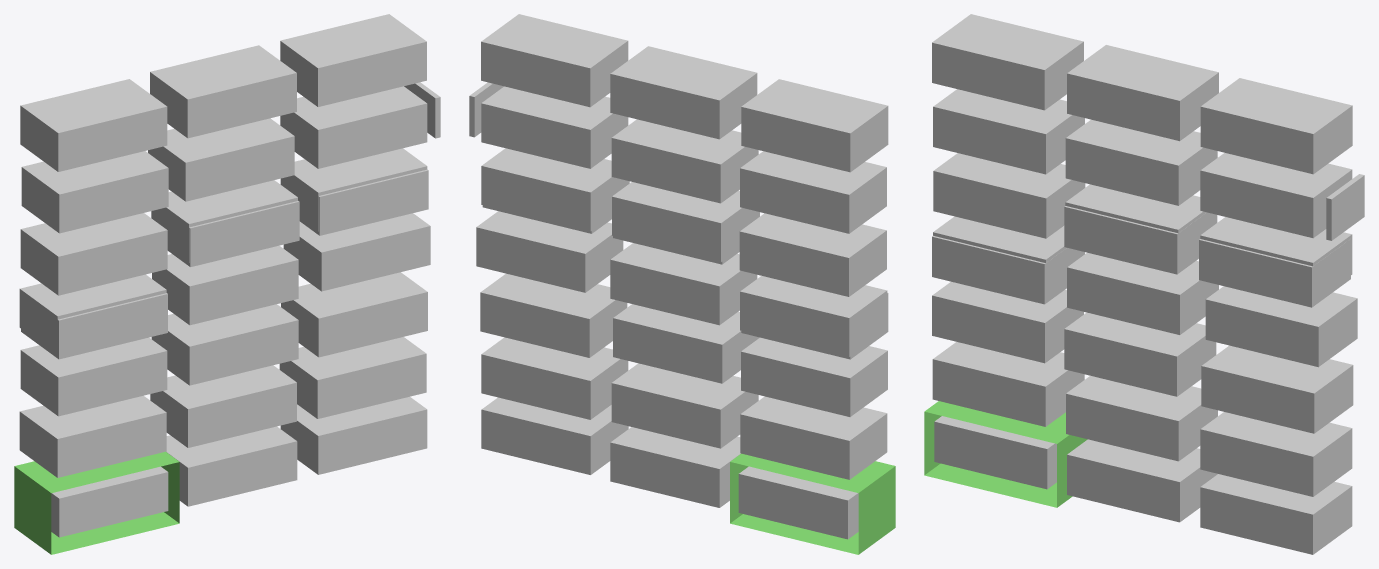
The model's file is warehouse model.glb.
3 renders of one model, left to right at view 1: azimuth 30°, elevation 25°; view 2: azimuth 150°, elevation 25°; view 3: azimuth 330°, elevation 25°, orthographic. The views are drawn at different scales.
Parts seen in each view (by area): view 1: Cube.008, Cube.009, Cube.003, Cube.007, Cube.022, Cube.006, Cube.020, Cube.002, Cube.013, Cube.021, Cube.005, Cube.023 (+14 smaller); view 2: Cube.008, Cube.009, Cube.003, Cube.007, Cube.022, Cube.006, Cube.010, Cube.020, Cube.021, Cube.005, Cube.013, Cube.023 (+12 smaller); view 3: Cube.003, Cube.009, Cube.008, Cube.020, Cube.023, Cube.005, Cube.019, Cube.021, Cube.018, Cube.027, Cube.006, Cube.007 (+14 smaller).
Part boxes in pixels (bbox=[...]): Cube.008: bbox=[20, 79, 167, 171]; Cube.009: bbox=[150, 45, 296, 138]; Cube.003: bbox=[280, 14, 426, 106]; Cube.007: bbox=[20, 213, 167, 295]; Cube.022: bbox=[19, 395, 166, 477]; Cube.006: bbox=[21, 151, 168, 233]; Cube.020: bbox=[281, 272, 427, 357]; Cube.002: bbox=[280, 86, 427, 168]; Cube.013: bbox=[20, 337, 167, 416]; Cube.021: bbox=[150, 365, 296, 447]; Cube.005: bbox=[148, 118, 294, 201]; Cube.023: bbox=[279, 337, 426, 418]; Cube.008: bbox=[741, 79, 888, 172]; Cube.009: bbox=[610, 46, 757, 139]; Cube.003: bbox=[481, 14, 628, 107]; Cube.007: bbox=[739, 213, 886, 296]; Cube.022: bbox=[740, 396, 887, 479]; Cube.006: bbox=[740, 151, 886, 233]; Cube.010: bbox=[740, 276, 887, 356]; Cube.020: bbox=[480, 273, 627, 357]; Cube.021: bbox=[611, 363, 758, 448]; Cube.005: bbox=[611, 119, 758, 203]; Cube.013: bbox=[741, 337, 887, 416]; Cube.023: bbox=[481, 337, 628, 419]; Cube.003: bbox=[1200, 78, 1352, 174]; Cube.009: bbox=[1067, 45, 1218, 141]; Cube.008: bbox=[932, 14, 1083, 110]; Cube.020: bbox=[1201, 345, 1353, 433]; Cube.023: bbox=[1200, 412, 1352, 496]; Cube.005: bbox=[1065, 119, 1217, 205]; Cube.019: bbox=[1205, 286, 1357, 367]; Cube.021: bbox=[1066, 375, 1217, 461]; Cube.018: bbox=[1064, 312, 1216, 396]; Cube.027: bbox=[1200, 474, 1352, 554]; Cube.006: bbox=[933, 89, 1084, 174]; Cube.007: bbox=[933, 153, 1085, 238].
Bounding box in the file's own units: 6.1 × 6.28 × 1.1.
